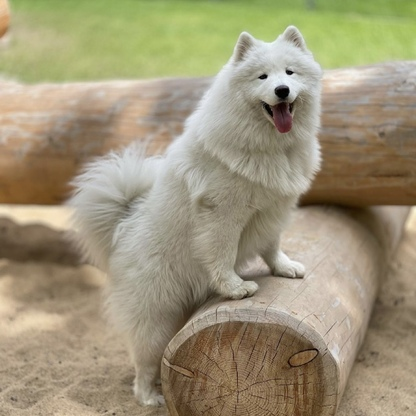samoyed: (61, 18, 327, 408)
